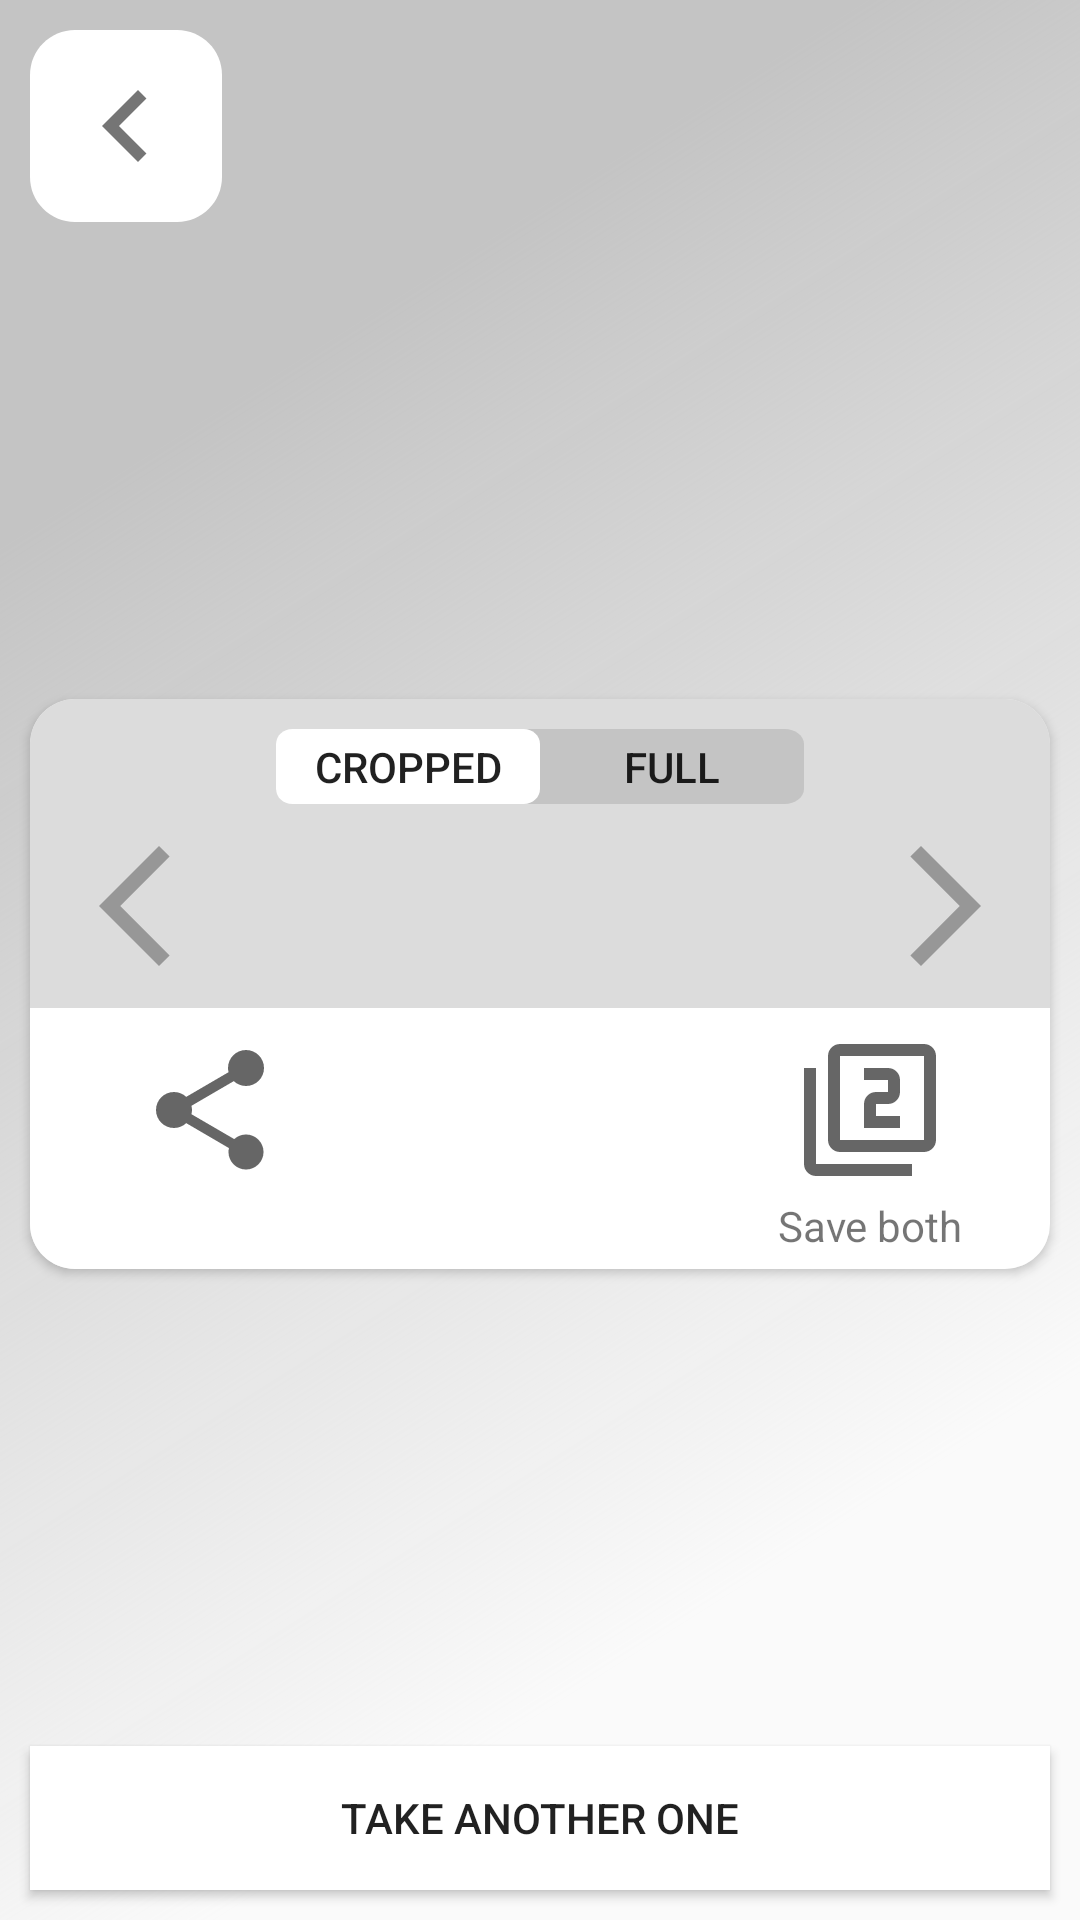

Icon bounding boxes for this 1080px x 1920px phone screenshot, format (x1, y1, x2, y2):
arrow forward: (910, 846, 981, 966)
filter: (804, 1044, 936, 1176)
share: (156, 1050, 264, 1170)
